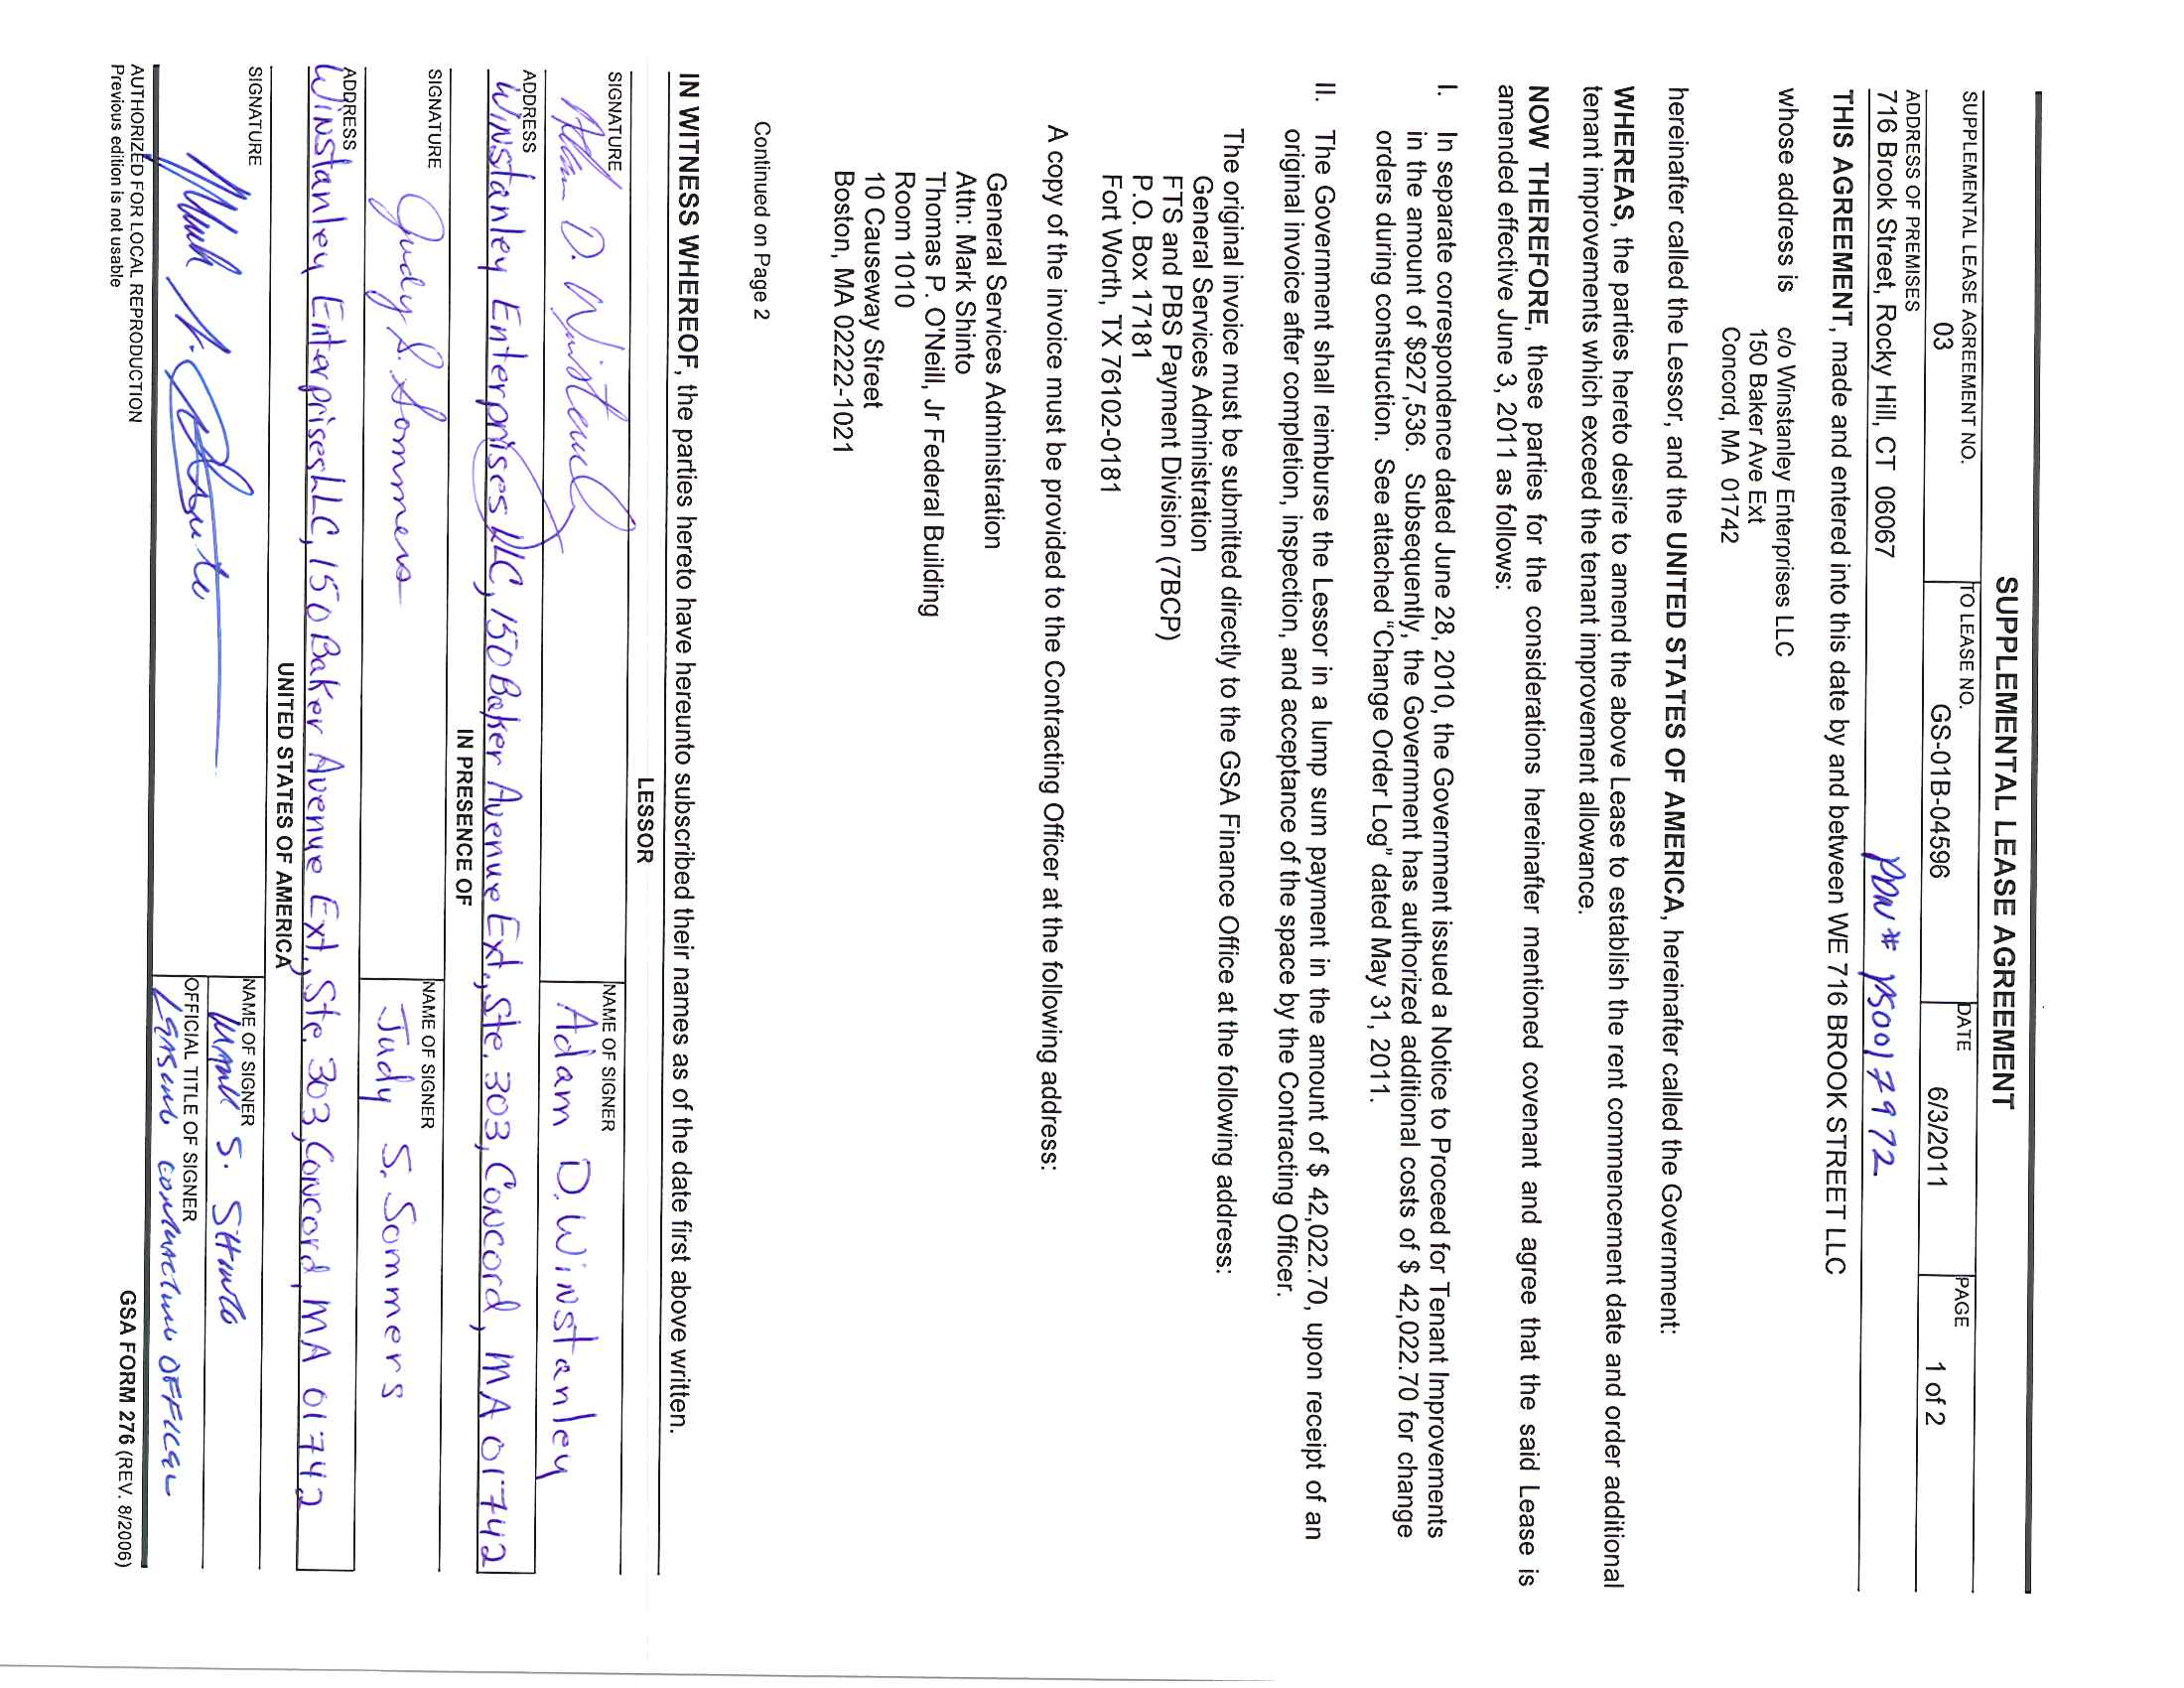handwritten: (294, 46, 355, 1534), (475, 82, 519, 1562), (163, 129, 255, 785), (539, 213, 628, 576), (367, 193, 440, 605), (541, 989, 592, 1495), (544, 106, 599, 564), (365, 991, 415, 1411), (149, 993, 188, 1495), (1858, 821, 1904, 1176), (206, 1011, 243, 1337)
